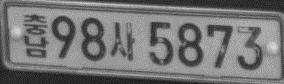3: (236, 25, 264, 70)
5: (147, 21, 174, 65)
7: (207, 24, 233, 68)
8: (176, 21, 204, 67), (80, 16, 106, 61)
9: (50, 14, 77, 58)
사: (110, 21, 136, 61)
충남_V: (22, 14, 50, 57)
